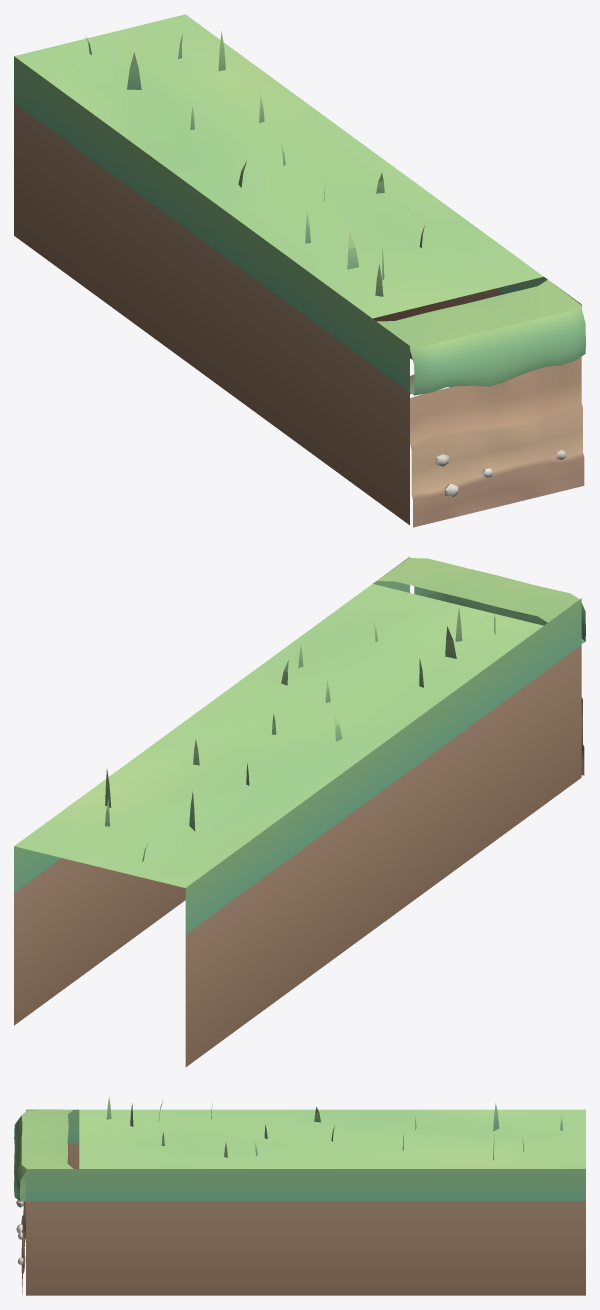
The model's file is ground_grass_5.glb.
The picture shows the model from 3 angles, top to bottom: view 1: azimuth 30°, elevation 25°; view 2: azimuth 150°, elevation 25°; view 3: azimuth 270°, elevation 25°; orthographic projection. The views are drawn at different scales.
Visible parts, largest first — view 1: ground_grass_5; view 2: ground_grass_5; view 3: ground_grass_5.
Boxes of the visible parts, x1,y1,x2,y2 form: ground_grass_5: (14, 14, 585, 527); ground_grass_5: (14, 556, 585, 1066); ground_grass_5: (14, 1096, 585, 1295).
Bounding box in the file's own units: 1 × 1.21 × 4.09.
